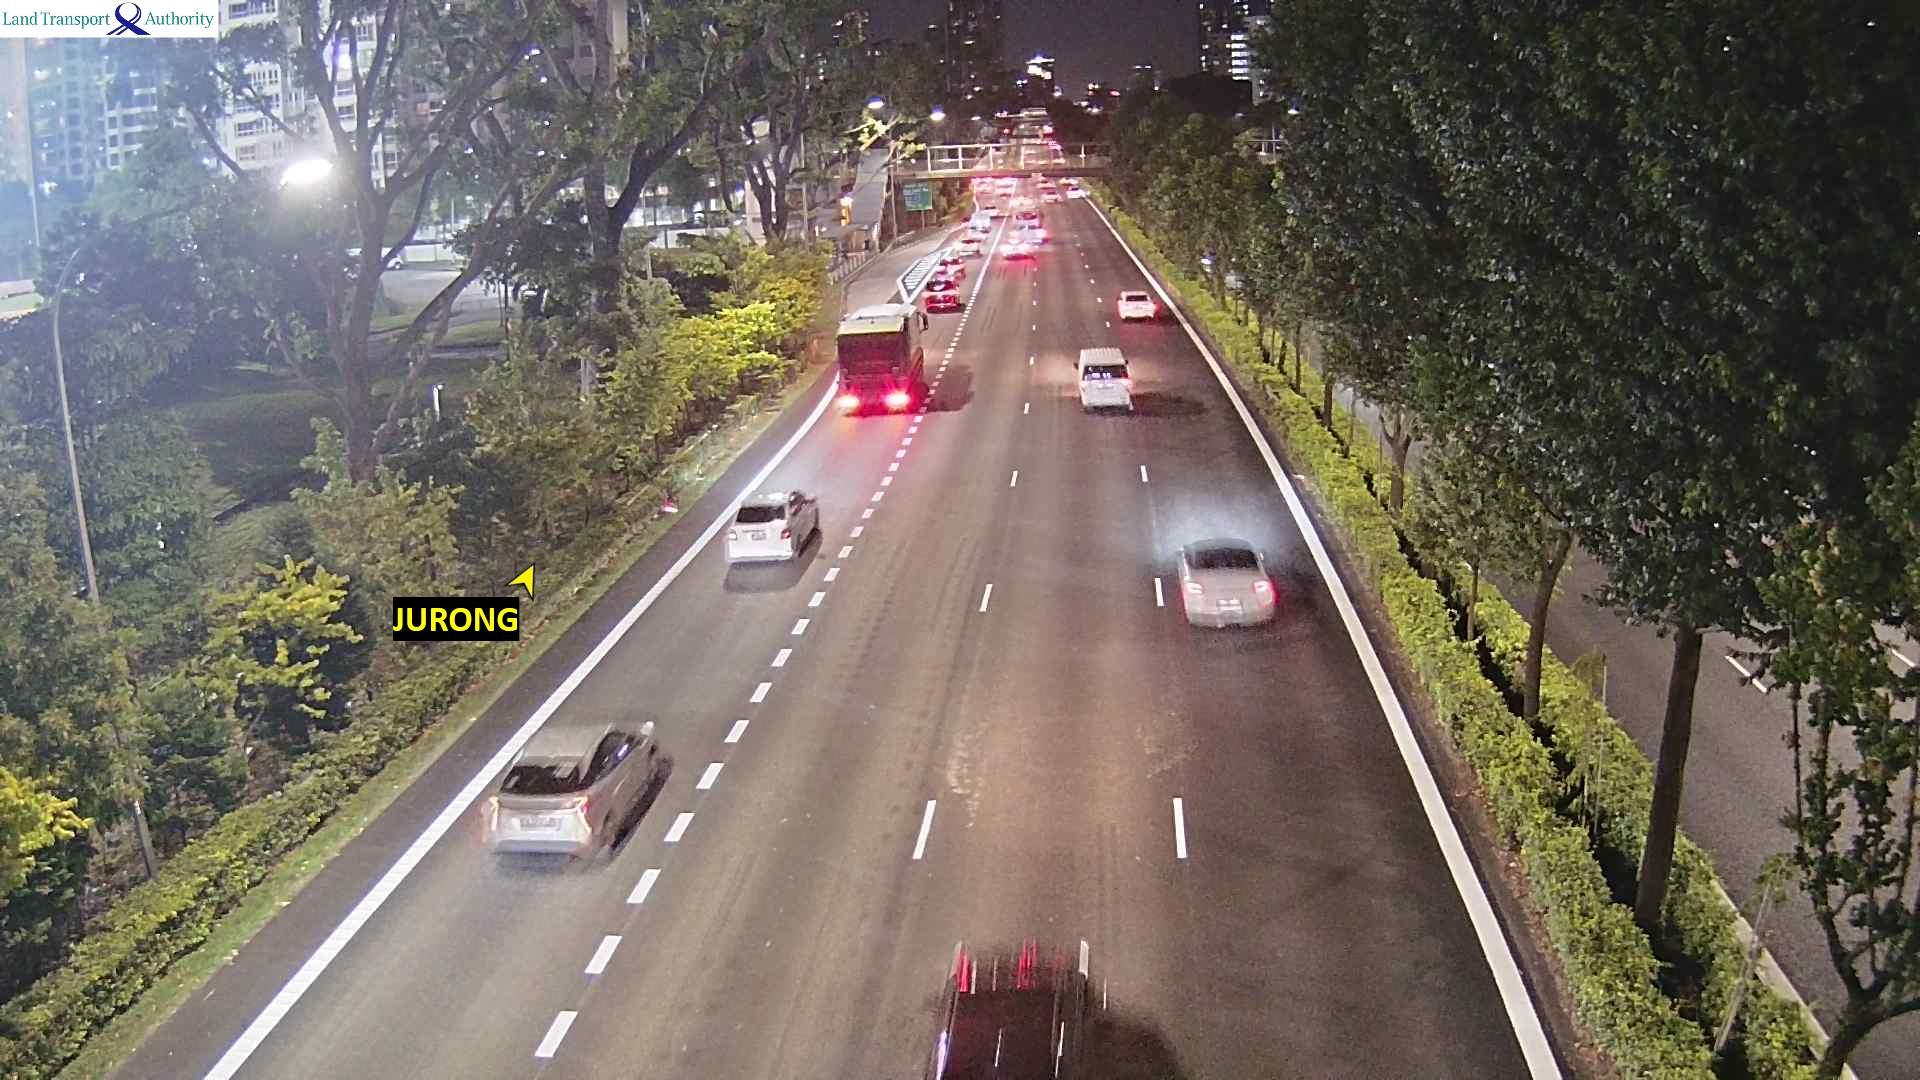cars: (477, 716, 673, 866), (928, 934, 1091, 1077), (1175, 535, 1276, 629), (724, 488, 820, 564), (1073, 345, 1134, 414), (0, 277, 46, 323), (920, 276, 960, 313), (1116, 287, 1158, 320), (934, 247, 967, 281), (1000, 232, 1036, 260), (1010, 199, 1043, 228), (967, 208, 992, 235), (1058, 177, 1085, 199), (1036, 181, 1062, 203)
trucks: (833, 301, 928, 415)
